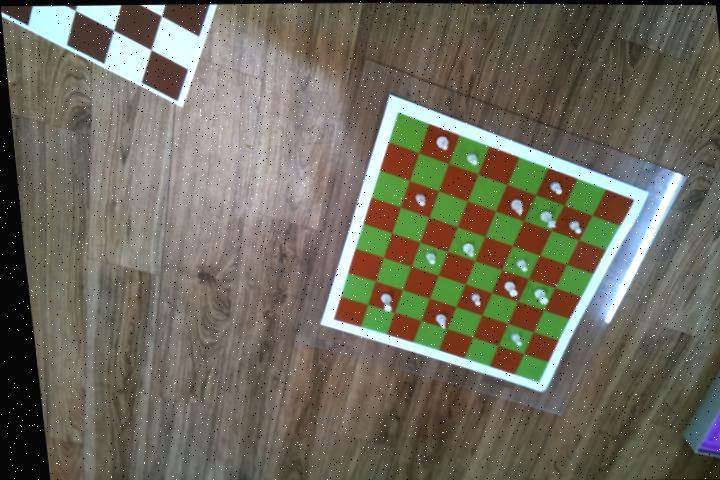chessboard-detect: (325, 111, 631, 381)
